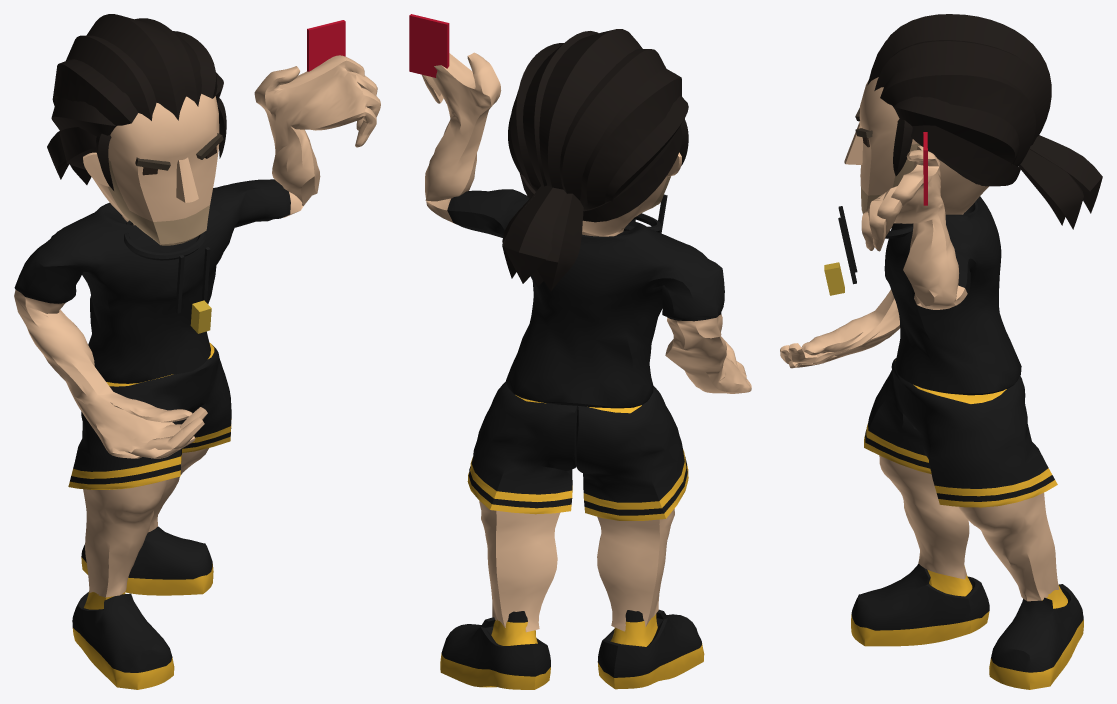
The model's file is av-arbitro-vilao.glb.
3 renders of one model, left to right at view 1: azimuth 30°, elevation 25°; view 2: azimuth 150°, elevation 25°; view 3: azimuth 270°, elevation 25°, orthographic. The views are drawn at different scales.
Parts seen in each view (by area): view 1: Ad_apito_1_0; view 2: Ad_apito_1_0; view 3: Ad_apito_1_0.
Boxes of the visible parts, left/top/right/bottom form: Ad_apito_1_0: left=14, top=14, right=380, bottom=689; Ad_apito_1_0: left=409, top=14, right=751, bottom=689; Ad_apito_1_0: left=780, top=14, right=1102, bottom=689.
Size of the model in its own units: 0.7559 by 1.37 by 0.6337.
Materials: 1 (1 with a texture image).
